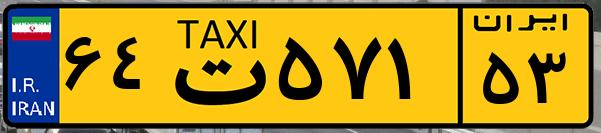1: (385, 28, 445, 110)
3: (525, 38, 570, 115)
4: (110, 28, 158, 98)
5: (270, 28, 330, 110), (475, 38, 525, 113)
6: (57, 26, 110, 100)
7: (330, 28, 385, 110)
ت: (158, 12, 270, 120)
